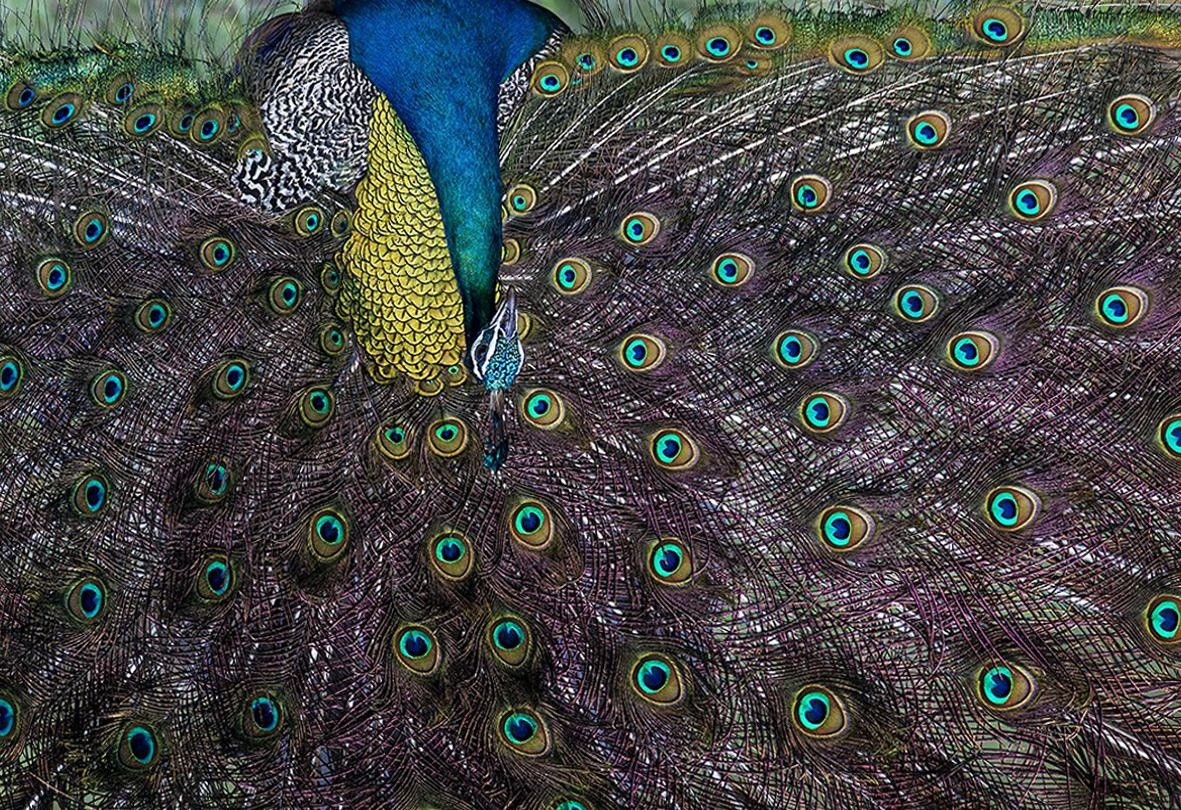peacock: (54, 4, 1181, 810)
